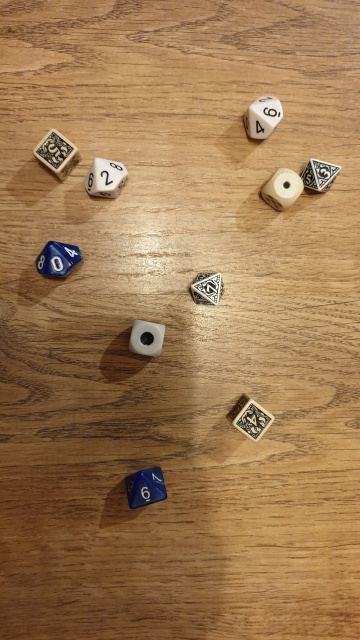d10-0: (29, 234, 93, 285)
d10-2: (82, 153, 130, 204)
d10-6: (118, 462, 177, 517), (242, 88, 287, 147)
d6-1: (258, 166, 305, 213), (127, 316, 166, 359)
d6p-4: (224, 389, 278, 450)
d6p-5: (30, 126, 83, 184)
d8p-3: (301, 153, 345, 199)
d8p-7: (188, 267, 232, 308)
